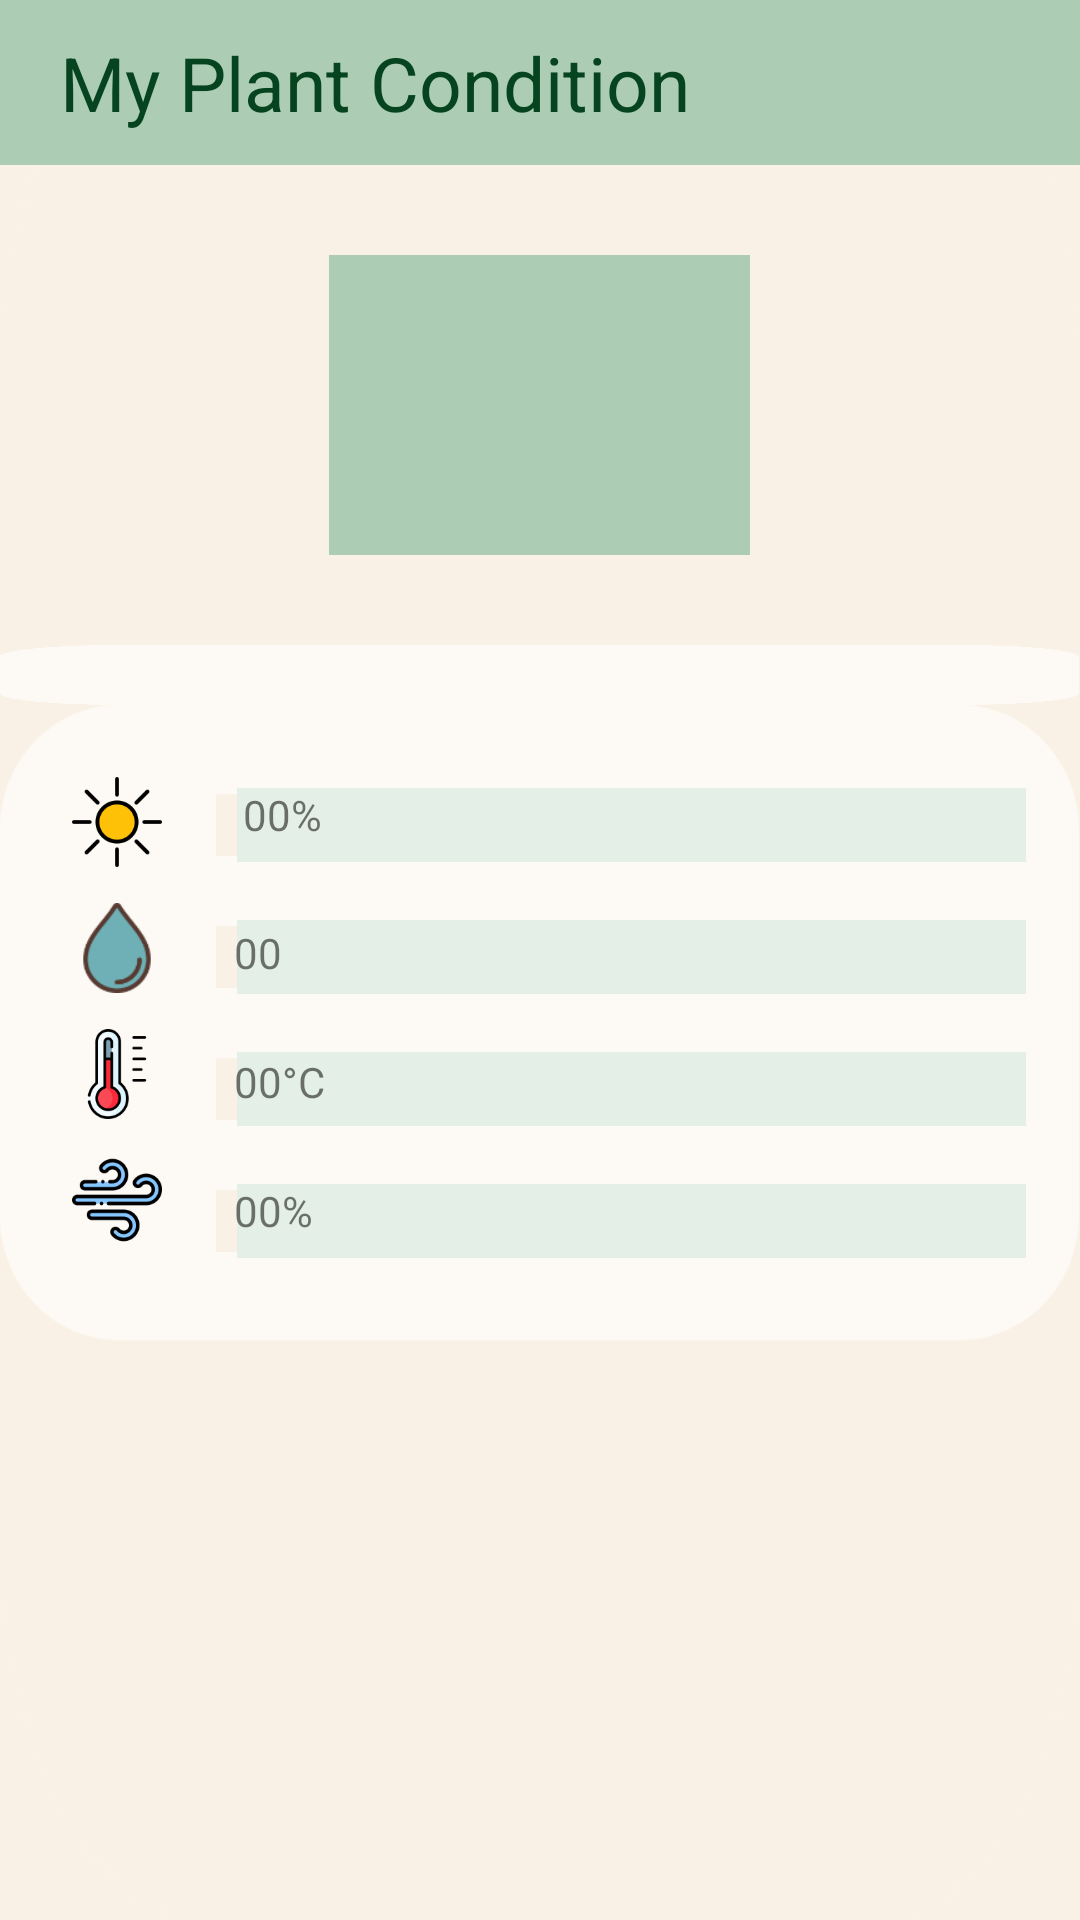

Screen size 1080w x 1920h. Icon name, then its center in pixels as point (x, y):
drop: point (117, 948)
sun: point (117, 822)
thermometer: point (117, 1074)
windy: point (117, 1200)
